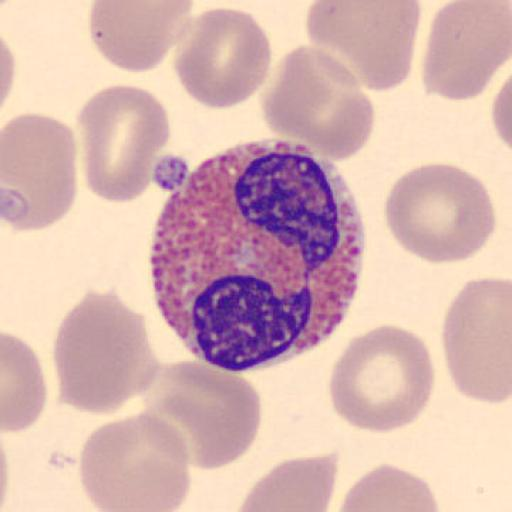RBC: (51, 286, 161, 416), (140, 357, 262, 472), (261, 42, 375, 164), (328, 322, 436, 435), (382, 160, 496, 266), (78, 409, 192, 512), (76, 83, 170, 205), (304, 0, 422, 95), (172, 6, 273, 112), (441, 274, 512, 406), (421, 0, 512, 102), (3, 110, 78, 233), (88, 0, 196, 75), (235, 451, 340, 512), (336, 462, 441, 512), (2, 332, 48, 434), (490, 48, 512, 154), (490, 74, 512, 152), (0, 35, 17, 112), (0, 431, 10, 512)
WBC: (144, 135, 369, 373)
